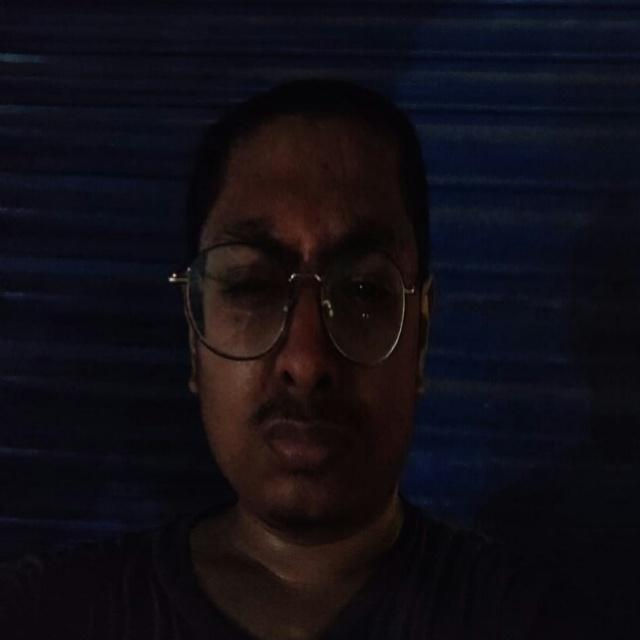Disgust: (105, 83, 509, 568)
